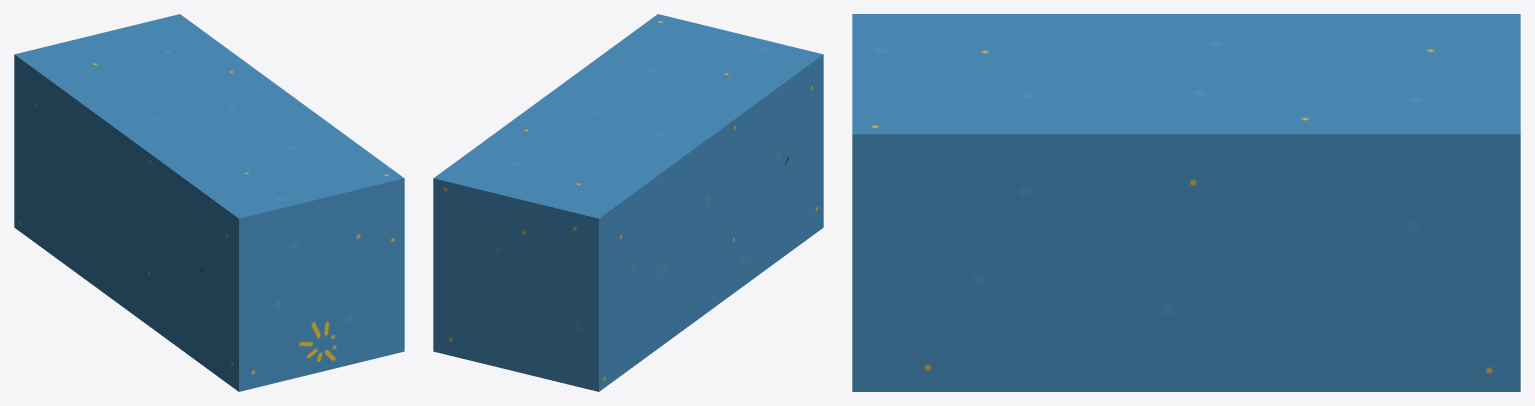
3 renders of one model, left to right at view 1: azimuth 30°, elevation 25°; view 2: azimuth 150°, elevation 25°; view 3: azimuth 270°, elevation 25°, orthographic. The views are drawn at different scales.
Visible parts, largest first — view 1: Aquarium; view 2: Aquarium; view 3: Aquarium.
Part boxes in pixels (x1,y1,x2,y2): Aquarium: (14,14,404,391); Aquarium: (433,14,823,391); Aquarium: (852,14,1520,391).
Bounding box in the file's own units: 202 × 200 × 470.
Materials: 5 (5 with a texture image).
